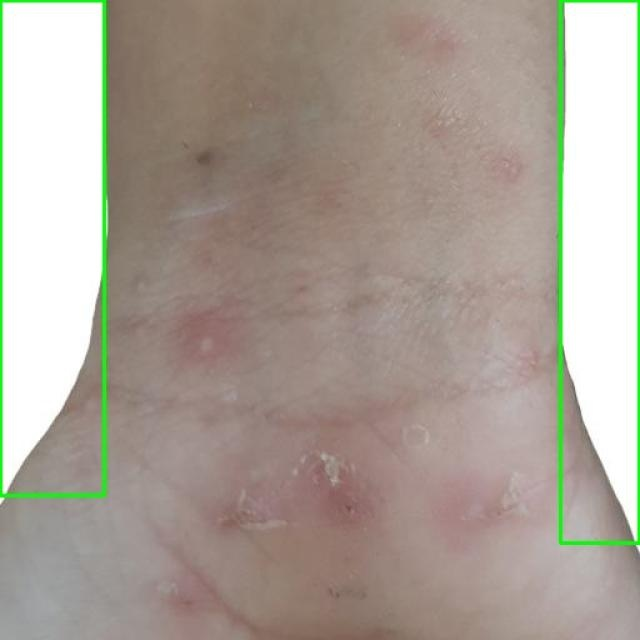Scabies: (0, 0, 105, 496), (560, 0, 639, 542)
